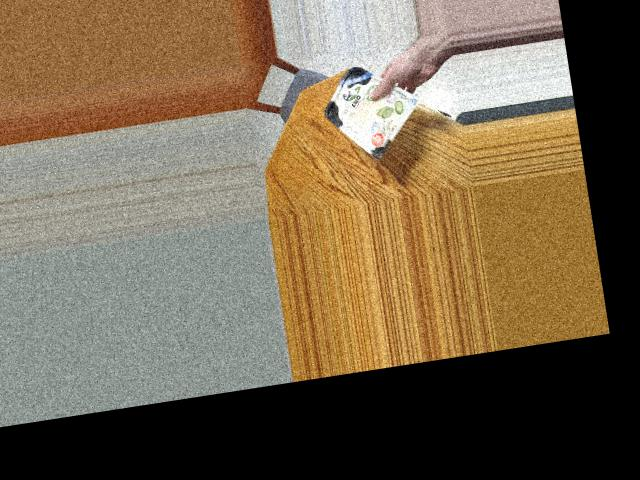cheese: (330, 67, 397, 154)
